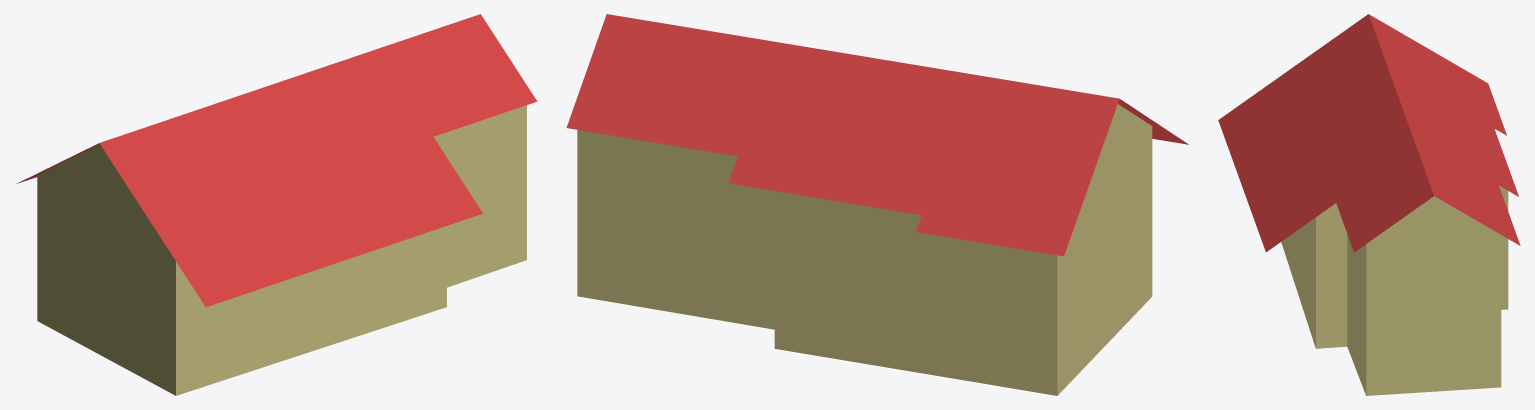
3 renders of one model, left to right at view 1: azimuth 30°, elevation 25°; view 2: azimuth 150°, elevation 25°; view 3: azimuth 270°, elevation 25°, orthographic. The views are drawn at different scales.
Bounding box in the file's own units: 28.75 × 18.86 × 13.51.
